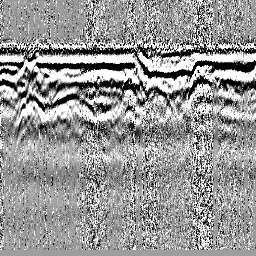cavity: (119, 70, 138, 100)
